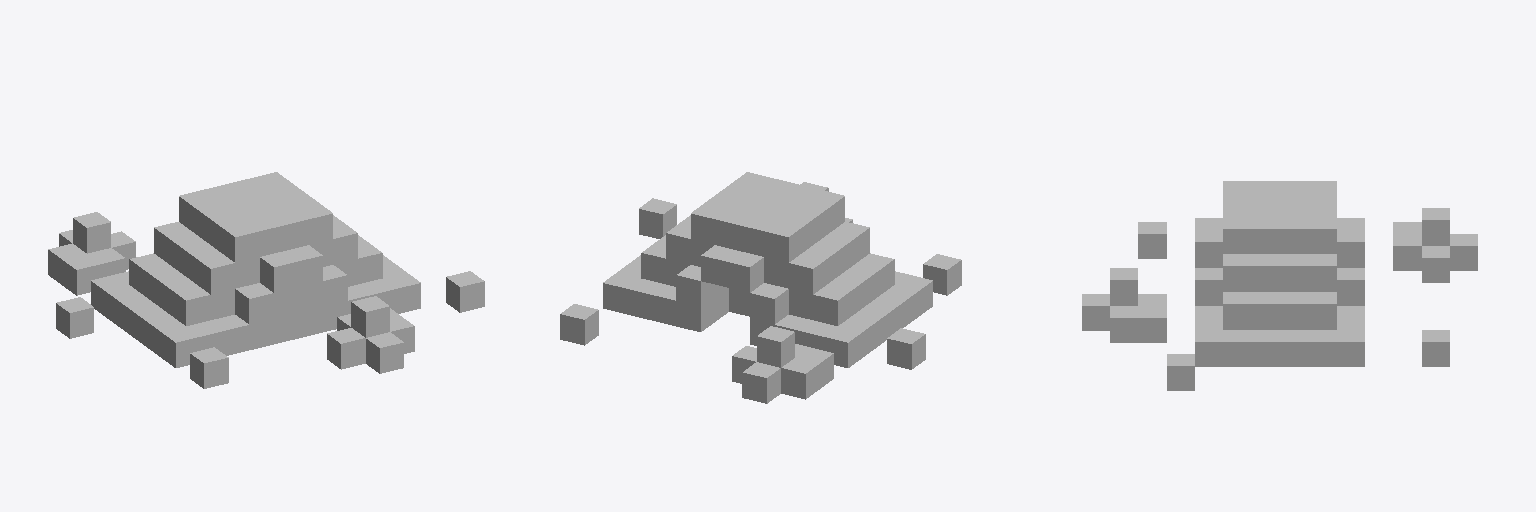
Rendered from civ_mine2.obj.
The picture shows the model from 3 angles: view 1: azimuth 30°, elevation 25°; view 2: azimuth 150°, elevation 25°; view 3: azimuth 270°, elevation 25°; orthographic projection.
Parts seen in each view (by area): view 1: mergedBlocks; view 2: mergedBlocks; view 3: mergedBlocks.
Part boxes in pixels (left/top/right/bottom): mergedBlocks: left=48, top=172, right=484, bottom=388; mergedBlocks: left=560, top=172, right=961, bottom=403; mergedBlocks: left=1082, top=181, right=1477, bottom=390.
Bounding box in the file's own units: 0.875 × 0.25 × 0.875.